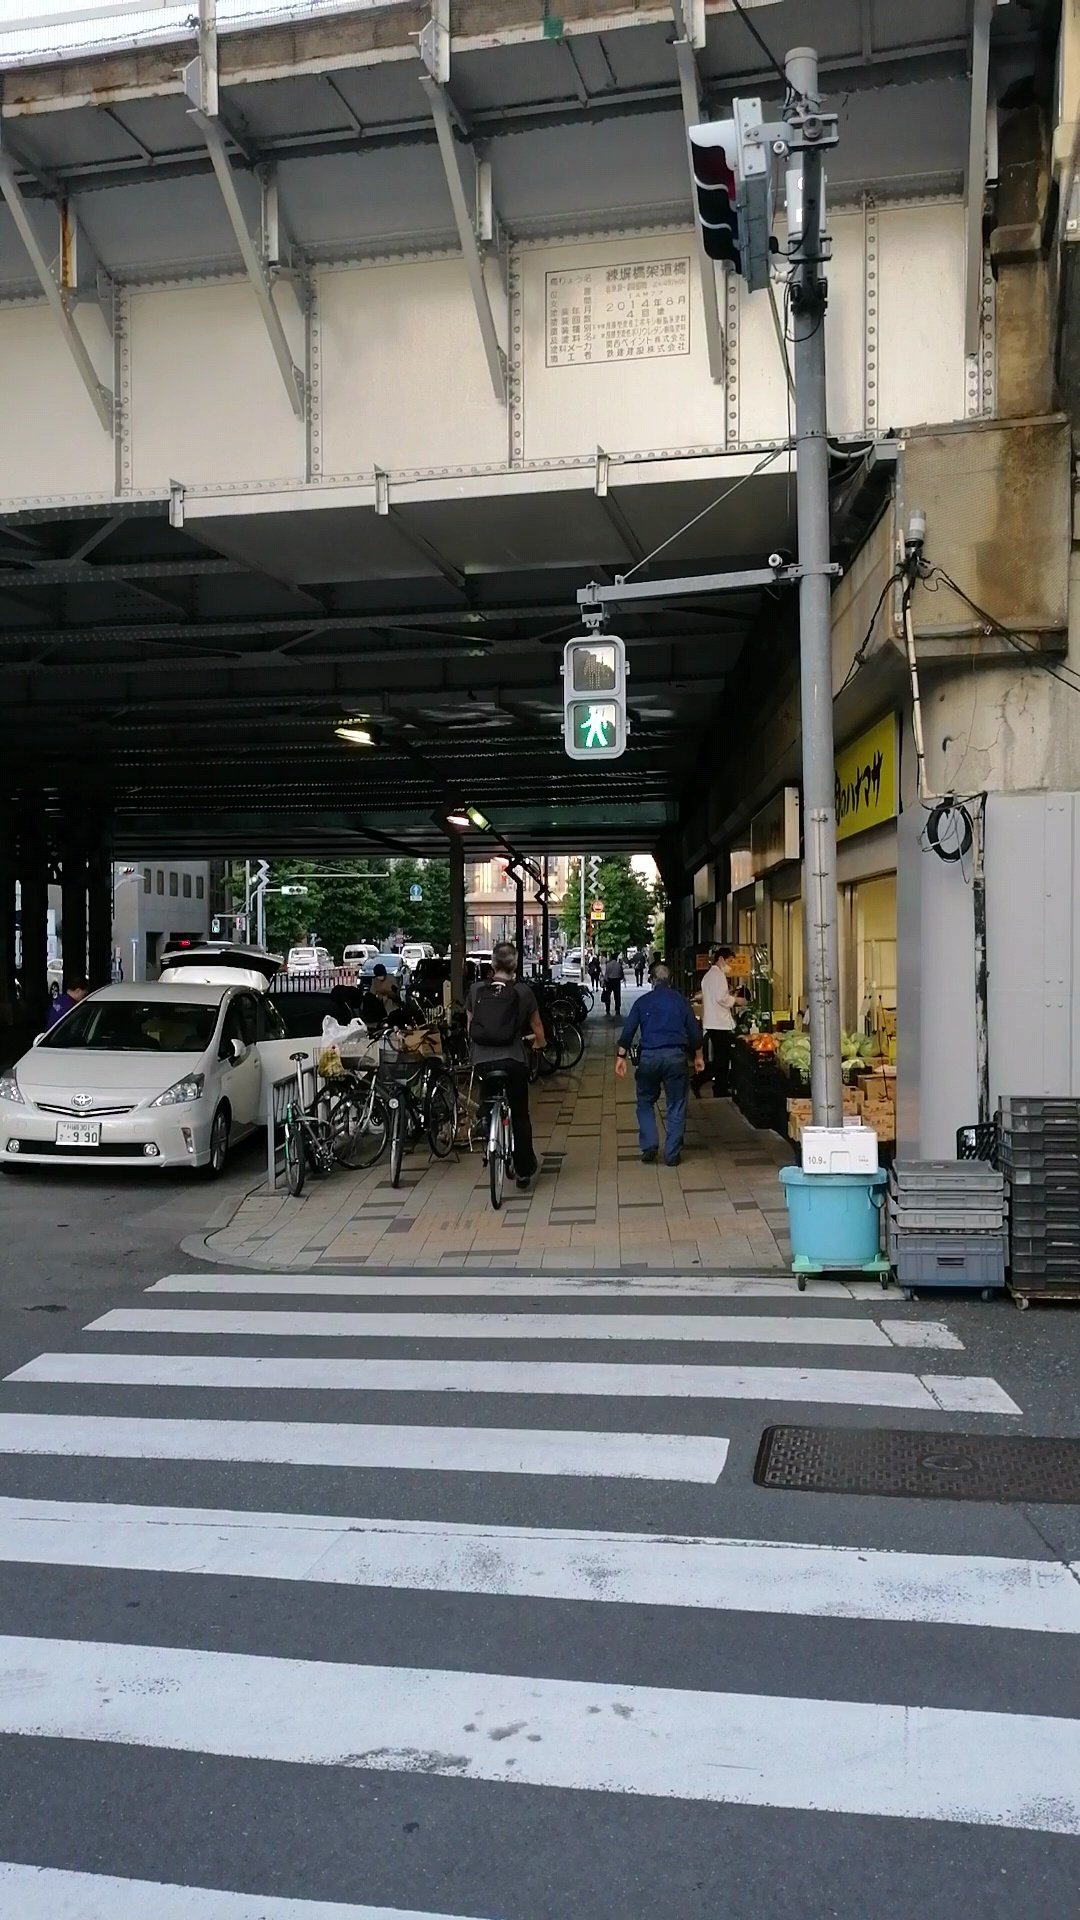green: (562, 636, 629, 764)
